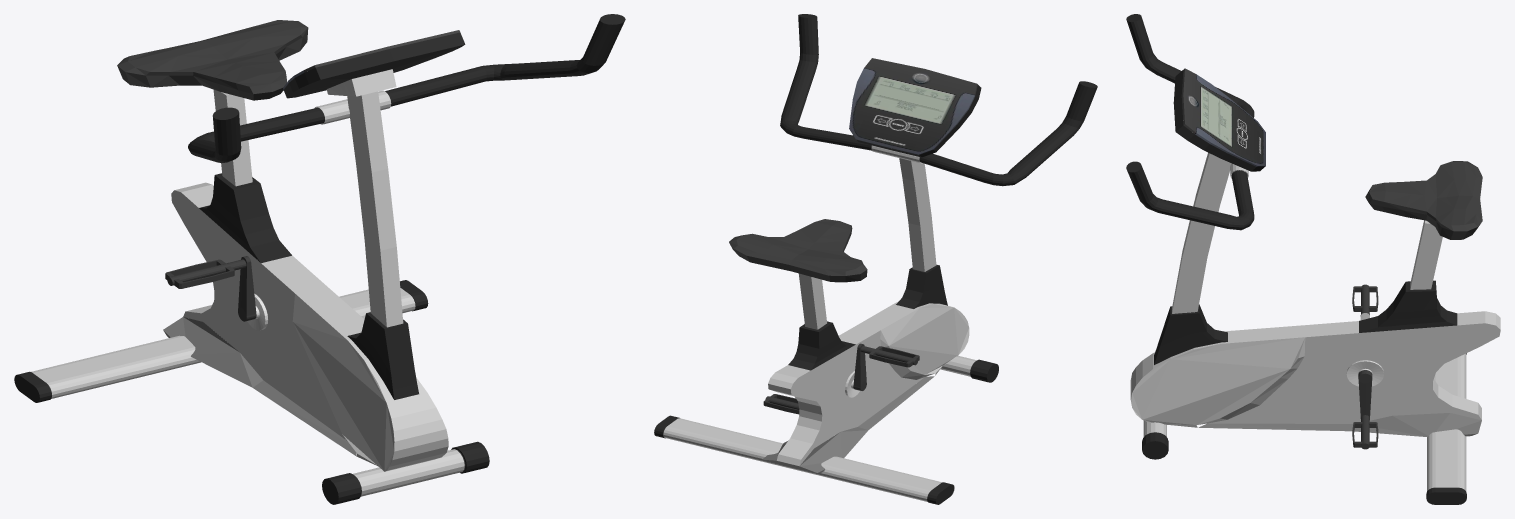
File: sh-scopia-indoor-bike.glb
The picture shows the model from 3 angles, left to right: view 1: azimuth 30°, elevation 25°; view 2: azimuth 150°, elevation 25°; view 3: azimuth 270°, elevation 25°; orthographic projection. The views are drawn at different scales.
Parts seen in each view (by area): view 1: Cylinder.006, Cylinder.003, Plane.002, Cylinder.002, Cylinder.005; view 2: Cylinder.006, Cylinder.003, Plane.003, Plane.002, Cylinder.002, Cylinder.005; view 3: Cylinder.006, Cylinder.003, Plane.002, Plane.003, Cylinder.002, Cylinder.005.
Part boxes in pixels (box(x1,y1,x2,y2)): Cylinder.006: box(31, 69, 464, 496); Cylinder.003: box(14, 14, 625, 504); Plane.002: box(117, 20, 308, 100); Cylinder.002: box(163, 317, 356, 455); Cylinder.005: box(165, 256, 267, 330); Cylinder.006: box(663, 145, 976, 501); Cylinder.003: box(654, 14, 1097, 504); Plane.003: box(849, 58, 977, 154); Plane.002: box(729, 219, 867, 282); Cylinder.002: box(762, 376, 934, 473); Cylinder.005: box(763, 343, 919, 414); Cylinder.006: box(1130, 152, 1500, 491); Cylinder.003: box(1126, 14, 1466, 504); Plane.002: box(1365, 161, 1482, 239); Plane.003: box(1181, 68, 1265, 166); Cylinder.002: box(1198, 413, 1481, 437); Cylinder.005: box(1346, 284, 1383, 449).
Bounding box in the file's own units: 1 × 1 × 1.
7 materials, 1 textured.
